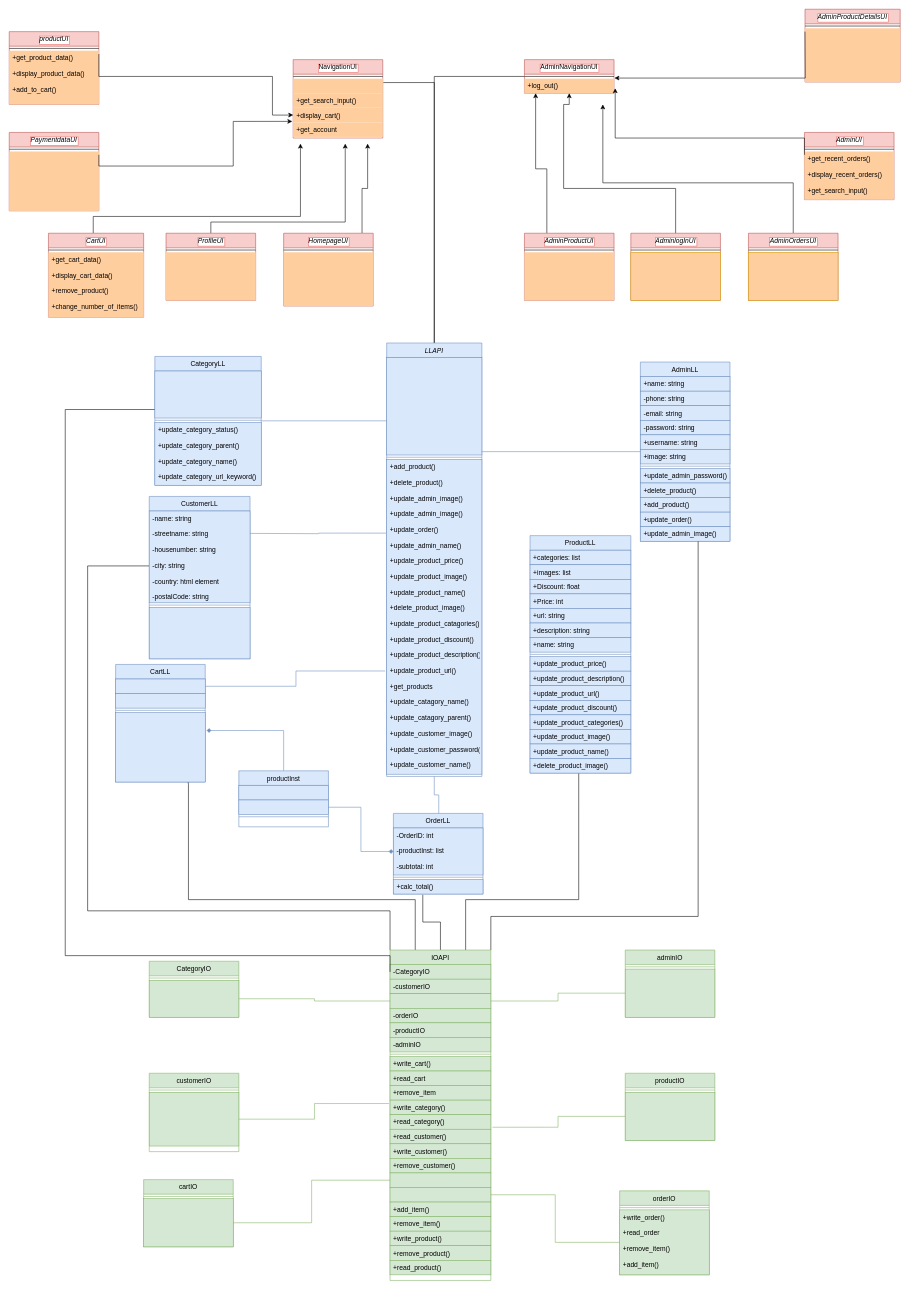
This 909x1290 diagram has some shape labels left out. Each missing label, with the centre of its shape:
"+calc_cart_price() +get_products() +add_product_to_cart() +remove_product_cart()" belongs at point 160,747.
"+cartID: int" belongs at point 160,700.
"+get_catagories()" belongs at point 337,85.
"+get_input() +display_profile_data() +display_search_history()" belongs at point 210,276.
"+get_login_info() +get_logo()" belongs at point 675,276.
"+get_orders() +display_orders()" belongs at point 793,276.
"+get_personal_data_input() +get_payment_data_input() +display_confirmation" belongs at point 54,181.
"+get_popular_products() +get_frontpage_image() +display_frontpage_data()" belongs at point 328,279.
"+get_product_details() +display_product_details() +get_product_details_input()" belongs at point 852,55.
"+get_products() +display_products()" belongs at point 569,276.
"+name: string +url_keyword: string +parent: string" belongs at point 207,394.
"+read_order()" belongs at point 440,1194.
"+read_order_list() +remove_product()" belongs at point 670,993.
"+update_customer_image() +update_customer_password() +update_customer_name()" belongs at point 199,633.
"+write_cart() +remove_item() +read_cart()" belongs at point 188,1222.
"+write_category() +read_category()" belongs at point 194,998.
"+write_customer() +read_customer() +remove_customer()" belongs at point 194,1119.
"+write_order()" belongs at point 440,1179.
"+write_product() +read_product() +remove_product()" belongs at point 670,1116.
"-cartIO" belongs at point 440,1000.
"-customerLL -cartLL -orderLL -ProductLL -adminLL -categoryLL" belongs at point 434,406.
"-productId: int" belongs at point 283,792.
"-productInst: list" belongs at point 160,686.
"-quantity: int" belongs at point 283,807.
